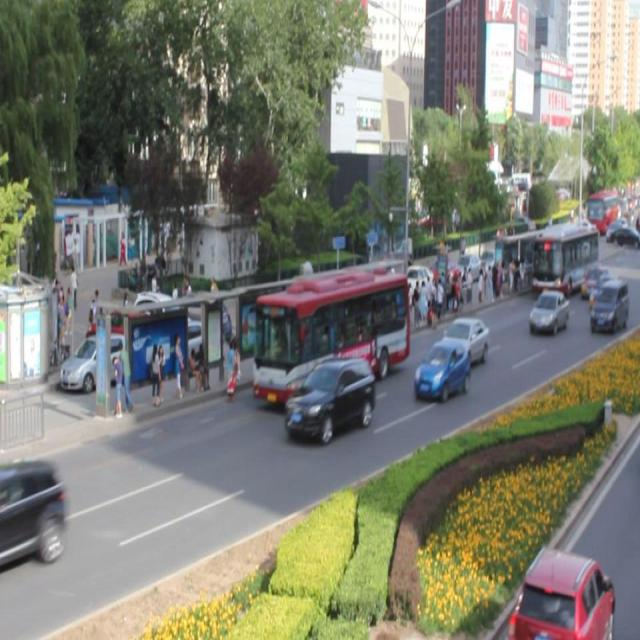car: (287, 357, 373, 441), (0, 456, 64, 563), (414, 340, 469, 401), (438, 316, 487, 364), (528, 288, 567, 334), (588, 274, 617, 309), (580, 264, 606, 296)
truck: (590, 280, 627, 330)
van: (253, 270, 407, 403), (531, 230, 597, 296)
